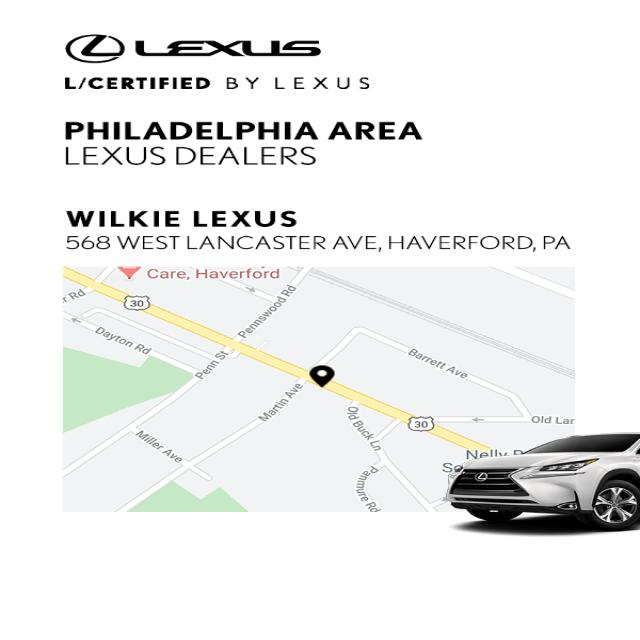Animation Frames: (307, 325, 532, 431)
Background Image: (3, 1, 637, 636)
Map or Location Image: (61, 264, 576, 513)
Seal or Badge: (444, 432, 638, 530)
Text Elements: (60, 34, 423, 167), (62, 118, 423, 166), (64, 232, 571, 252), (63, 119, 422, 141), (64, 34, 322, 62), (62, 75, 371, 91), (64, 208, 298, 228), (128, 428, 212, 481), (64, 314, 153, 354), (439, 447, 525, 474), (62, 75, 210, 90), (256, 381, 305, 423), (406, 348, 470, 379), (129, 428, 184, 464), (145, 266, 281, 280), (91, 325, 152, 355), (529, 414, 576, 424)
